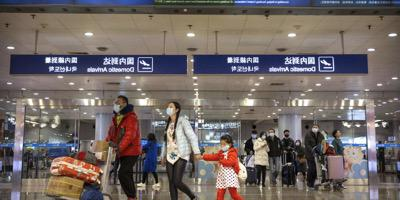mask_weared_incorrect: (220, 142, 230, 152)
with_mask: (112, 100, 122, 113), (165, 105, 175, 117), (311, 127, 318, 134), (268, 131, 274, 138), (284, 132, 289, 138), (261, 134, 266, 140), (251, 134, 257, 139), (295, 142, 299, 146)
without_mask: (336, 131, 341, 138)
